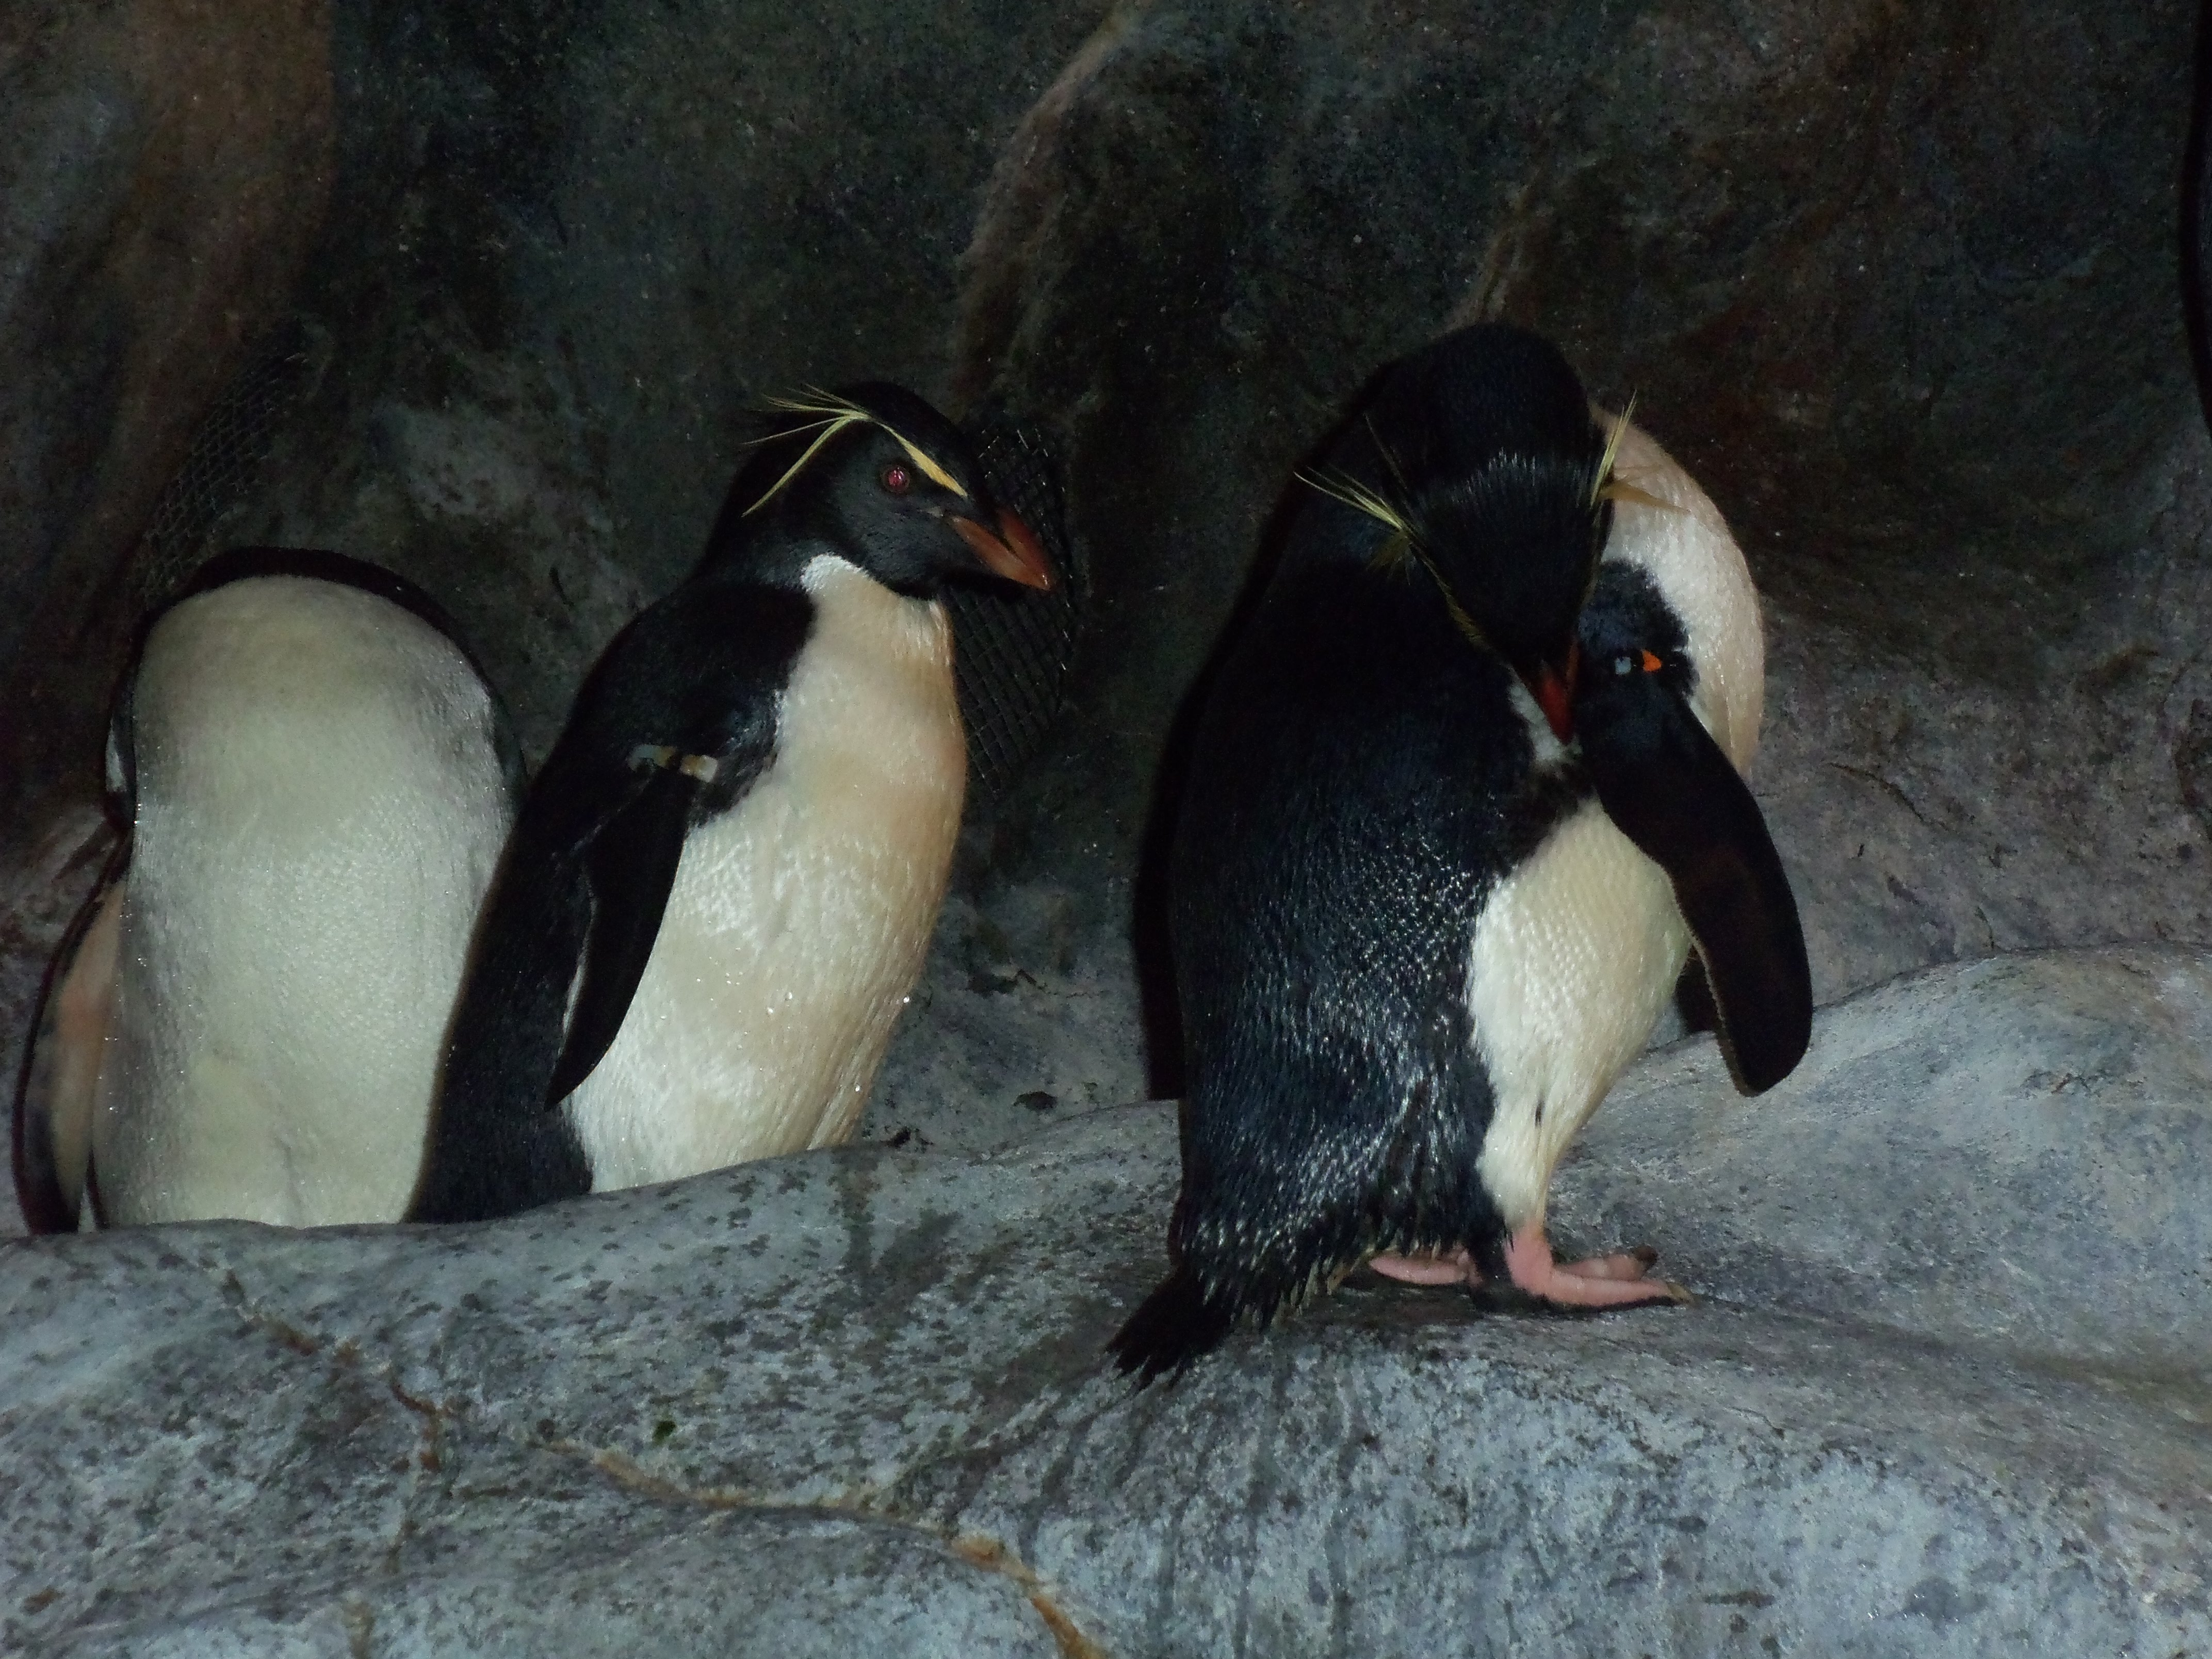penguin: (1157, 331, 1818, 1352), (516, 383, 1078, 1195)
